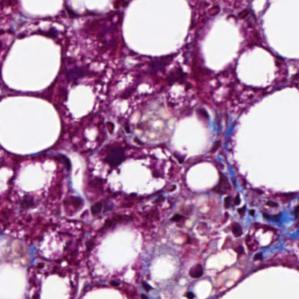inflammation: (219, 190, 260, 239)
